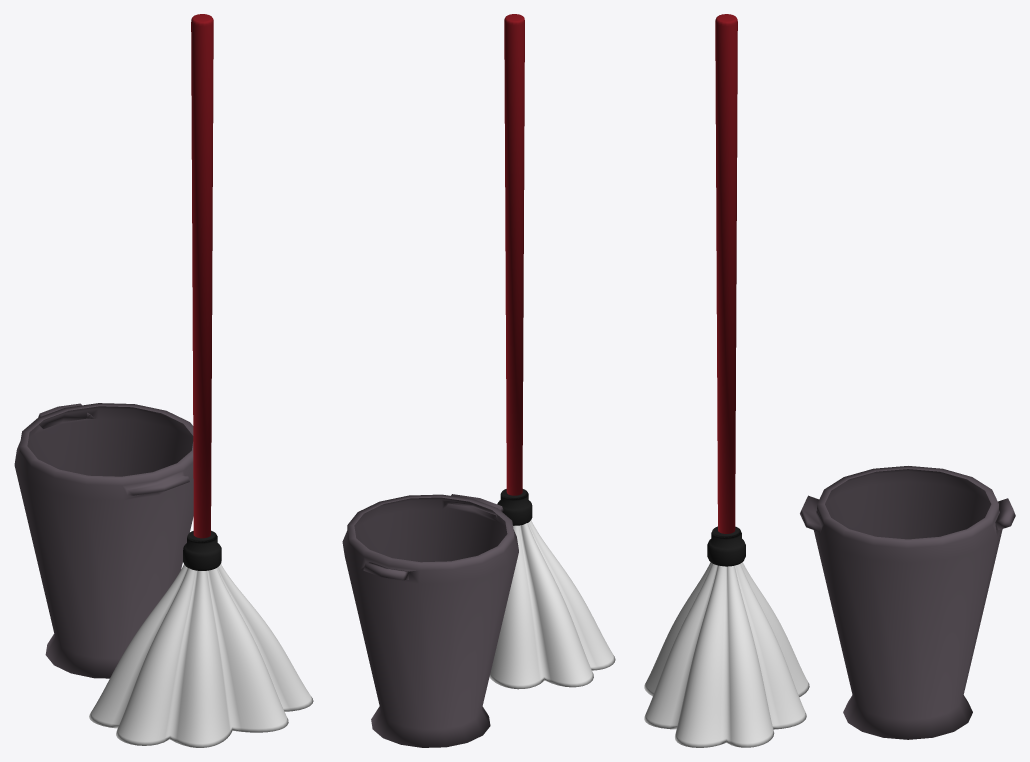
Rendered from Mop.fbx.
3 views of the same model, side by side, from view 1: azimuth 30°, elevation 25°; view 2: azimuth 150°, elevation 25°; view 3: azimuth 270°, elevation 25° (orthographic). The views are drawn at different scales.
Visible parts, largest first — view 1: Mop; view 2: Mop; view 3: Mop.
Part boxes in pixels (bbox=[...]): Mop: bbox=[14, 14, 313, 747]; Mop: bbox=[342, 14, 615, 747]; Mop: bbox=[644, 14, 1015, 747].
Bounding box in the file's own units: 1.25 × 4.41 × 2.14.
